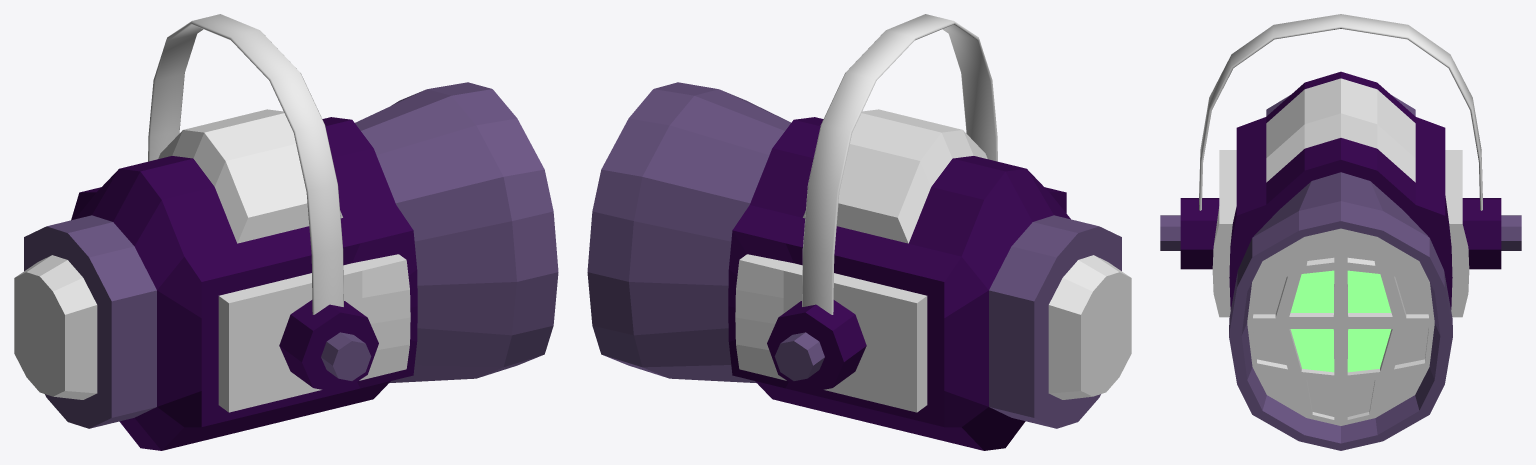
The model's file is Foco.B_AssestsConcert.fbx.
3 views of the same model, side by side, from view 1: azimuth 30°, elevation 25°; view 2: azimuth 150°, elevation 25°; view 3: azimuth 270°, elevation 25° (orthographic). The views are drawn at different scales.
Visible parts, largest first — view 1: FocoGood; view 2: FocoGood; view 3: FocoGood.
Part boxes in pixels (x1,y1,x2,y2): FocoGood: (14,14,558,450); FocoGood: (587,14,1131,450); FocoGood: (1160,14,1521,450).
Bounding box in the file's own units: 428 × 351 × 346.
